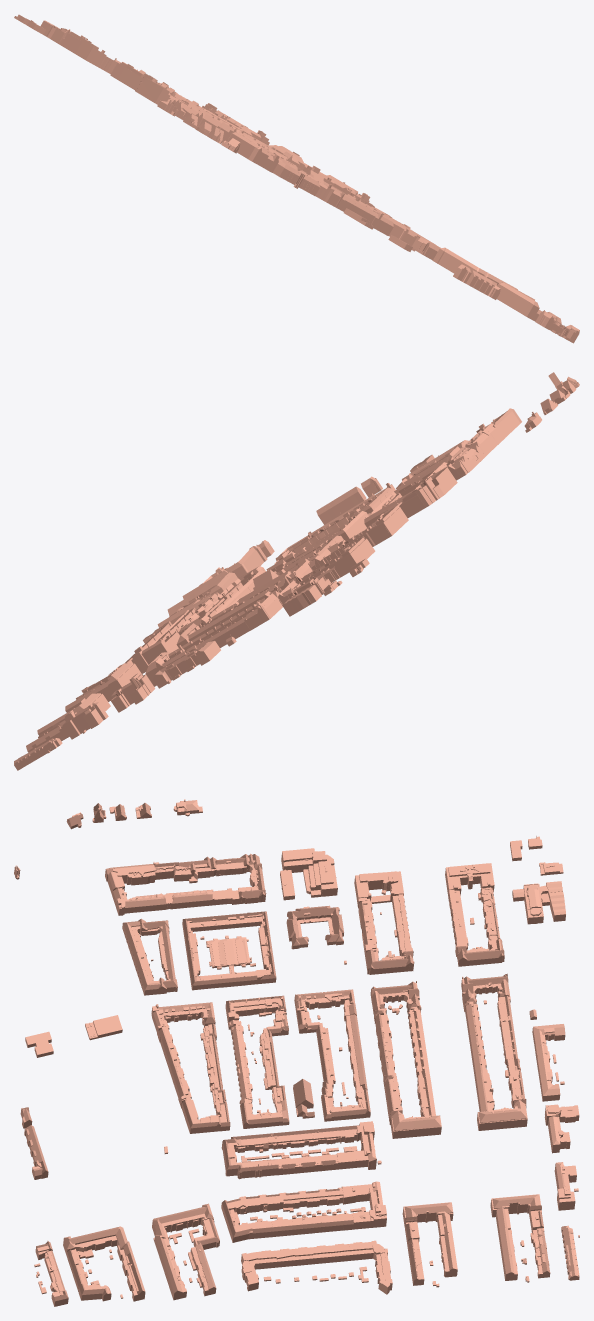
3 views of the same model, one above another, from view 1: azimuth 30°, elevation 25°; view 2: azimuth 150°, elevation 25°; view 3: azimuth 270°, elevation 25° (orthographic). The views are drawn at different scales.
Size of the model in its own units: 1.67e+07 by 1.26e+07 by 2.03e+07.
